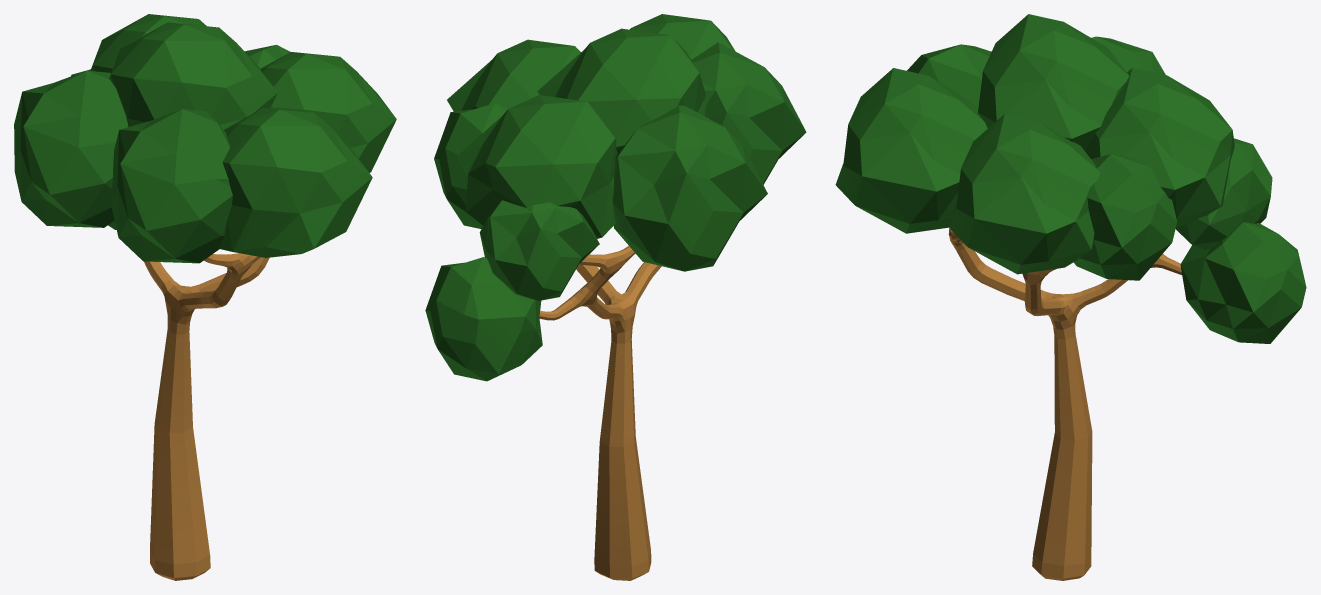
The model's file is tree.062_lev4.glb.
The picture shows the model from 3 angles, left to right: view 1: azimuth 30°, elevation 25°; view 2: azimuth 150°, elevation 25°; view 3: azimuth 270°, elevation 25°; orthographic projection. The views are drawn at different scales.
Visible parts, largest first — view 1: tree.062_lev4; view 2: tree.062_lev4; view 3: tree.062_lev4.
Boxes of the visible parts, left/top/right/bottom form: tree.062_lev4: left=14, top=14, right=396, bottom=580; tree.062_lev4: left=425, top=14, right=806, bottom=580; tree.062_lev4: left=835, top=14, right=1306, bottom=580.
Size of the model in its own units: 0.6318 by 1 by 0.7881.
